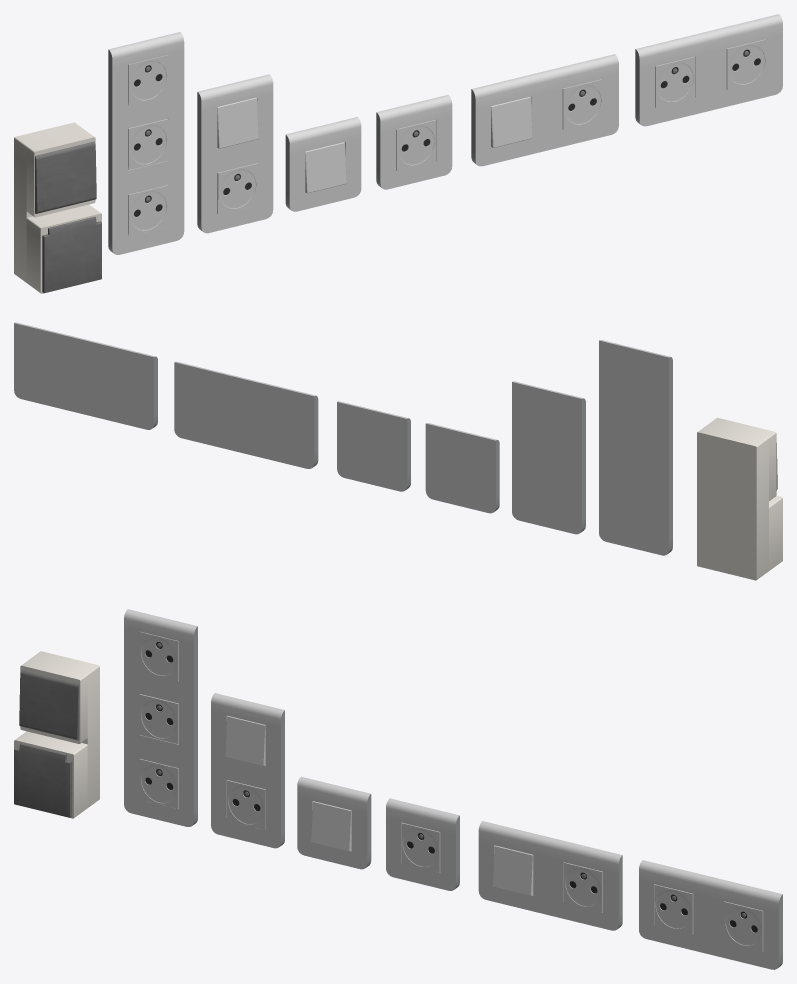
Rendered from Eclairage.glb.
The picture shows the model from 3 angles, top to bottom: view 1: azimuth 30°, elevation 25°; view 2: azimuth 150°, elevation 25°; view 3: azimuth 330°, elevation 25°; orthographic projection. The views are drawn at different scales.
Parts seen in each view (by area): view 1: Prise x 3 vertical, Inter-Prise ext, Prises 2x hori, Inter-Prise-hori, Inter-Prise vertical, Inter, Prise x1; view 2: Prise x 3 vertical, Inter-Prise ext, Inter-Prise-hori, Prises 2x hori, Inter-Prise vertical, Inter, Prise x1; view 3: Prise x 3 vertical, Inter-Prise ext, Inter-Prise-hori, Prises 2x hori, Inter-Prise vertical, Inter, Prise x1.
Boxes of the visible parts, <box> form: Prise x 3 vertical: <box>108,32,184,254</box>; Inter-Prise ext: <box>14,122,101,293</box>; Prises 2x hori: <box>635,14,782,126</box>; Inter-Prise-hori: <box>471,54,618,166</box>; Inter-Prise vertical: <box>197,74,273,233</box>; Inter: <box>285,117,361,211</box>; Prise x1: <box>376,95,452,189</box>; Prise x 3 vertical: <box>599,340,672,555</box>; Inter-Prise ext: <box>697,417,782,580</box>; Inter-Prise-hori: <box>174,361,318,468</box>; Prises 2x hori: <box>14,322,157,429</box>; Inter-Prise vertical: <box>512,381,585,534</box>; Inter: <box>425,423,499,513</box>; Prise x1: <box>337,401,410,491</box>; Prise x 3 vertical: <box>124,609,197,826</box>; Inter-Prise ext: <box>14,651,99,818</box>; Inter-Prise-hori: <box>478,821,622,930</box>; Prises 2x hori: <box>639,860,782,969</box>; Inter-Prise vertical: <box>211,693,284,848</box>; Inter: <box>297,776,371,869</box>; Prise x1: <box>386,798,459,890</box>.
Size of the model in its own units: 0.8711 by 0.223 by 0.0569.
6 materials, 1 textured.
